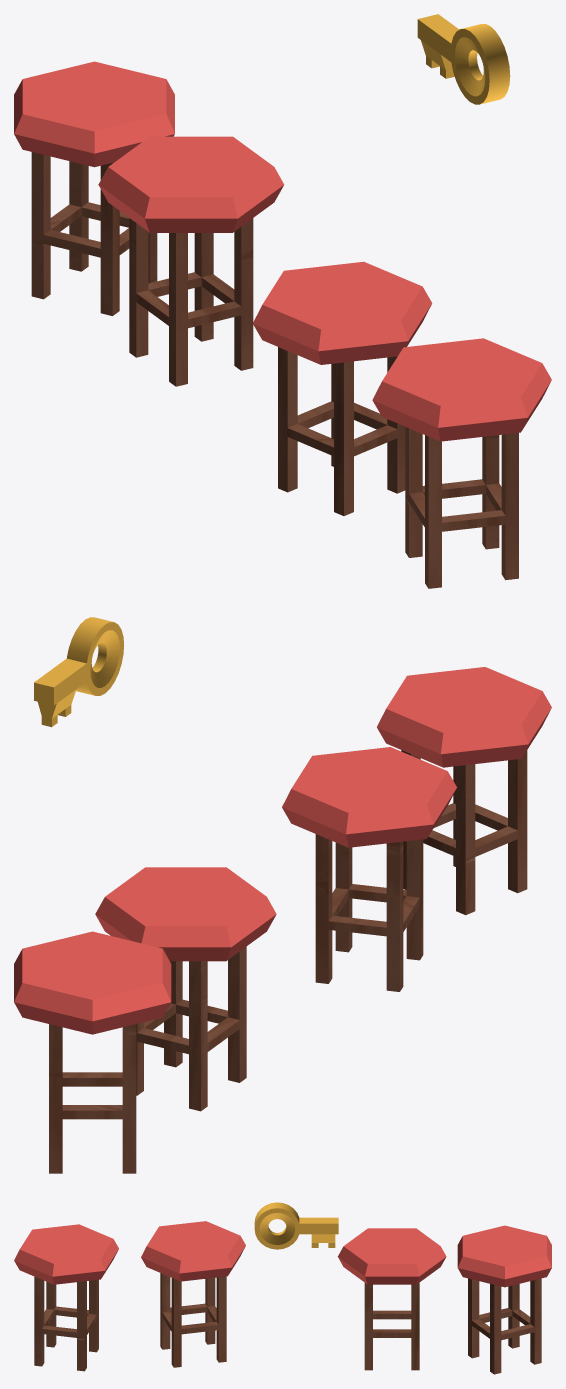
File: Level_1_6-Key-Items.fbx
The picture shows the model from 3 angles, top to bottom: view 1: azimuth 30°, elevation 25°; view 2: azimuth 150°, elevation 25°; view 3: azimuth 270°, elevation 25°; orthographic projection. The views are drawn at different scales.
Visible parts, largest first — view 1: stoolBar (×4), key; view 2: stoolBar (×4), key; view 3: stoolBar (×4), key.
Boxes of the visible parts, bbox=[...] form: stoolBar (×4): bbox=[14, 61, 551, 588]; key: bbox=[417, 14, 510, 104]; stoolBar (×4): bbox=[14, 667, 551, 1173]; key: bbox=[34, 617, 123, 727]; stoolBar (×4): bbox=[14, 1221, 551, 1374]; key: bbox=[254, 1202, 338, 1249].
Bounding box in the file's own units: 9.81 × 11.23 × 26.23.
3 materials, 1 textured.
